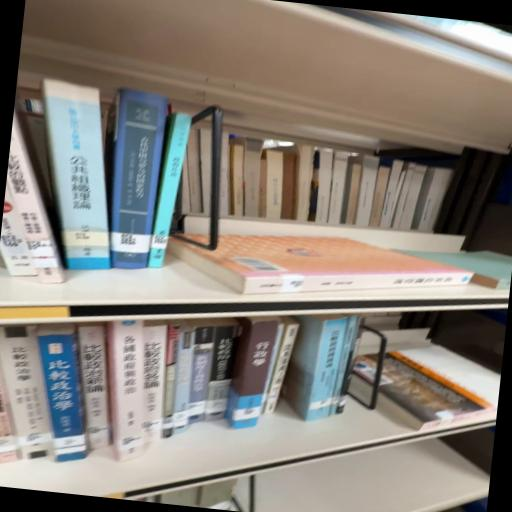flat: (169, 236, 472, 295), (353, 346, 501, 433)
